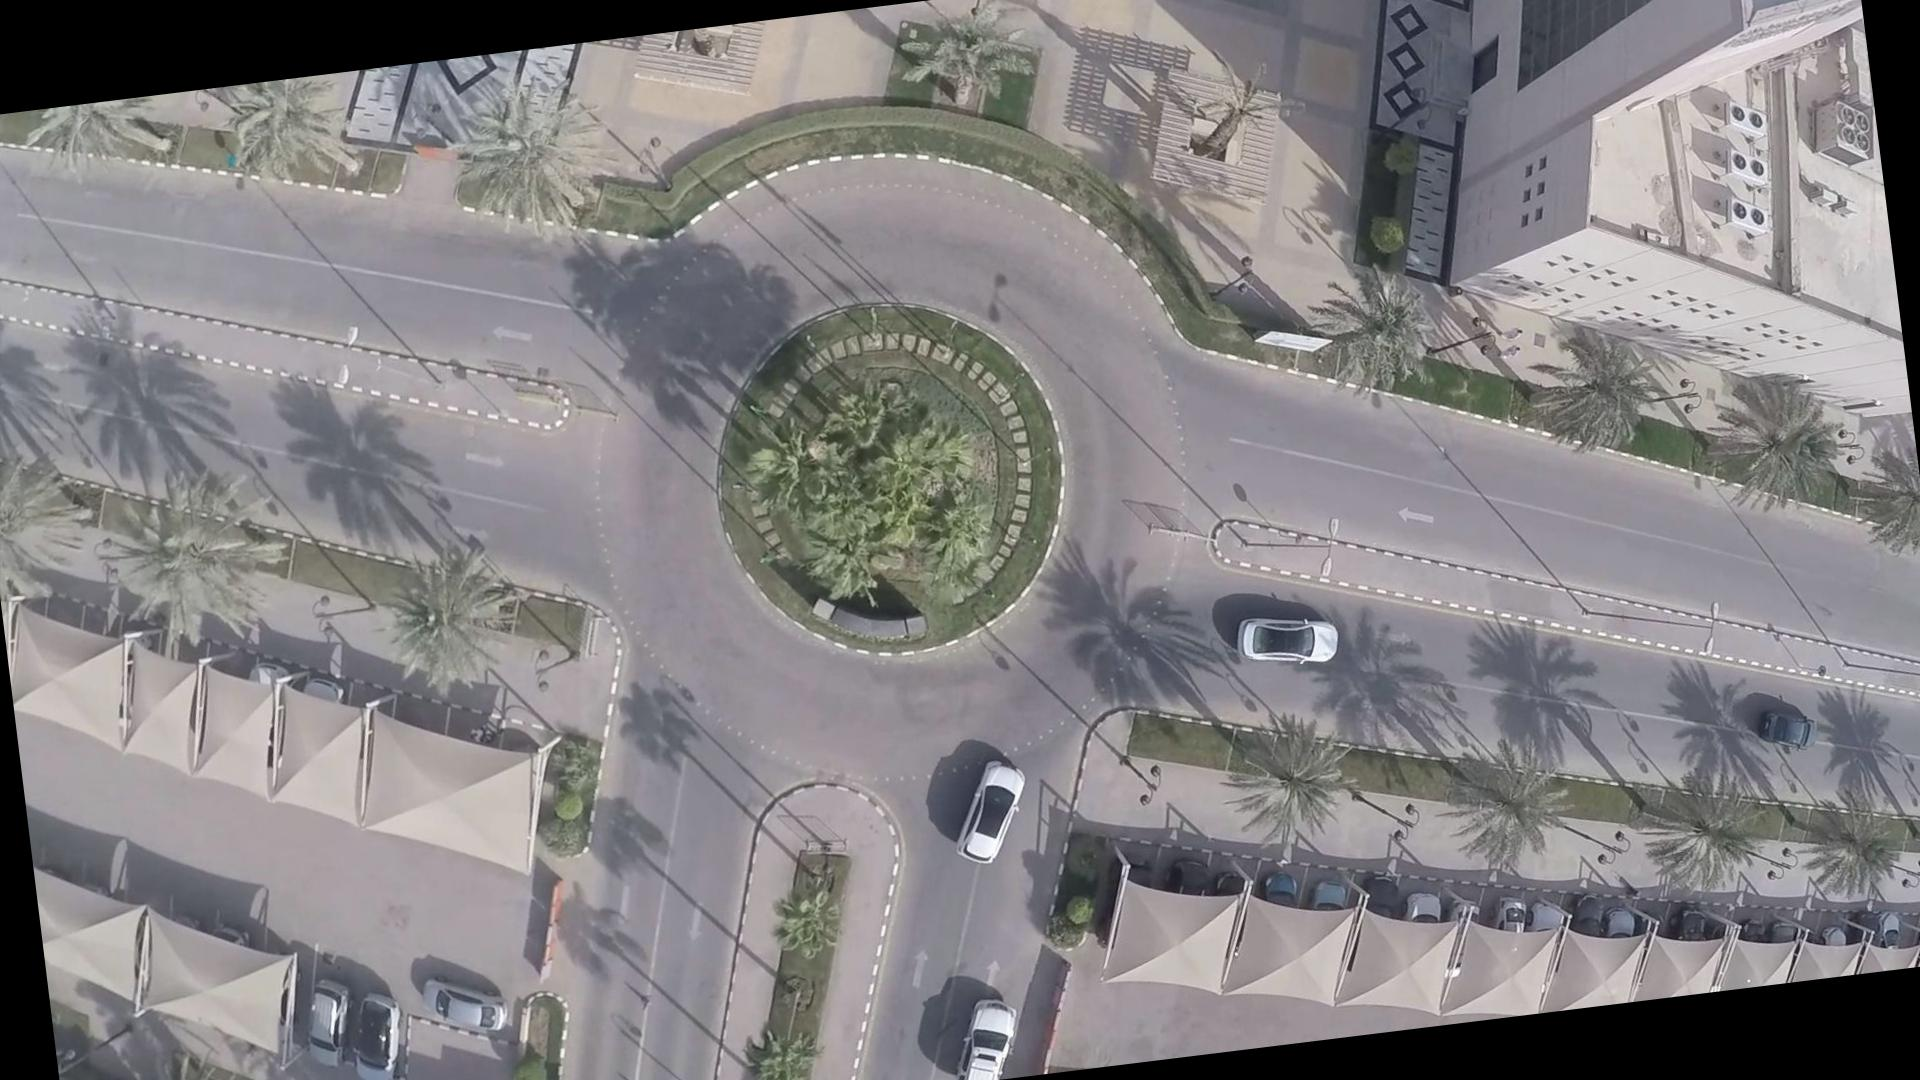vehicle: (959, 744, 1032, 871), (1218, 602, 1338, 674), (1730, 689, 1832, 760), (962, 997, 1027, 1079)
